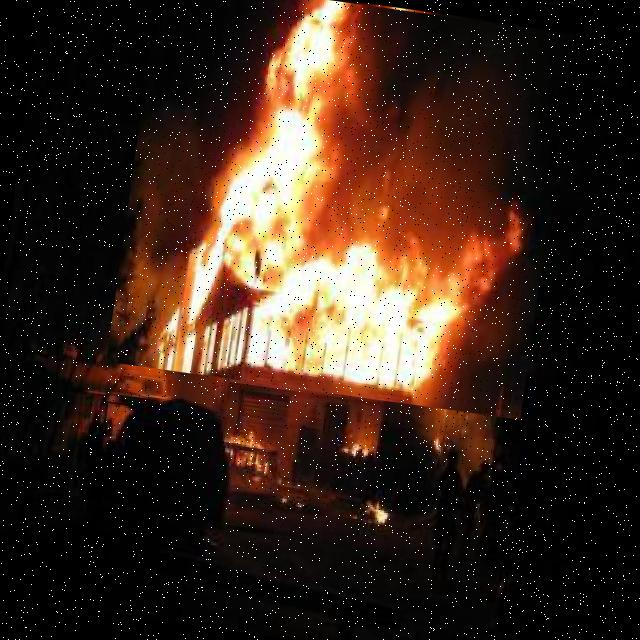fire: (106, 0, 574, 419)
